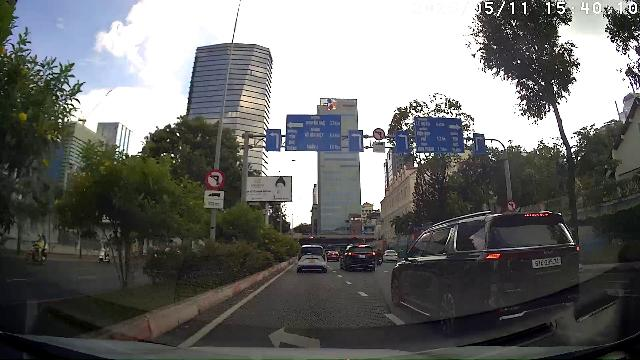123a-cam-re-trai: (205, 169, 225, 189), (372, 128, 386, 140), (506, 200, 516, 212)
